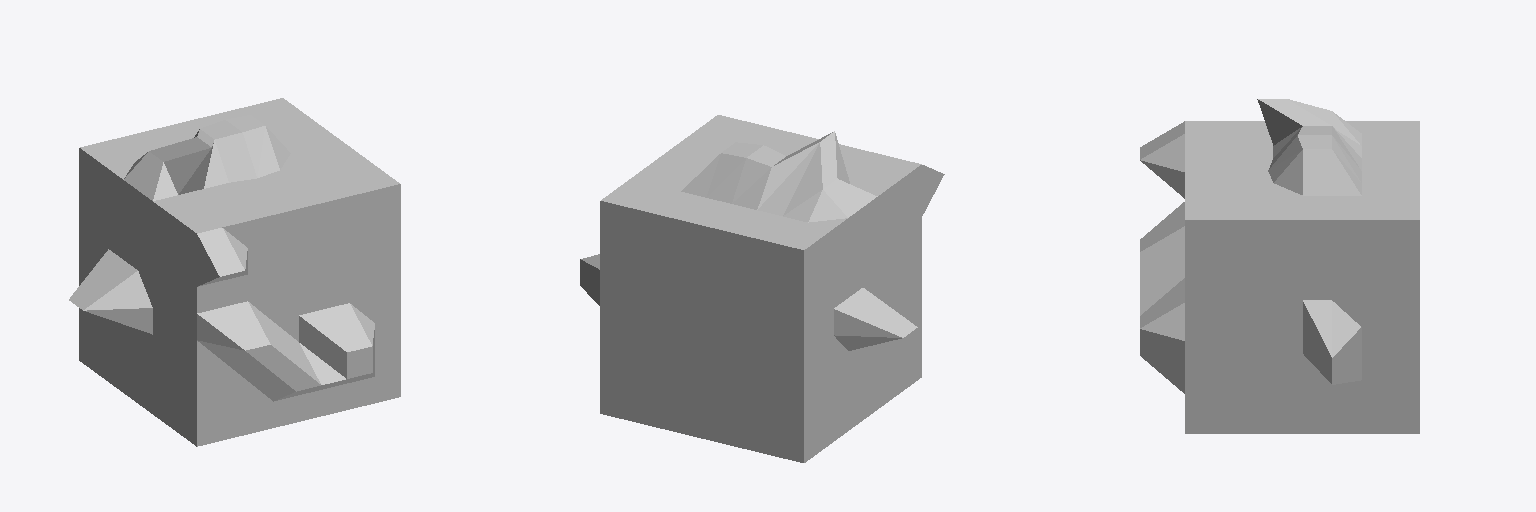
File: badbox.obj
The picture shows the model from 3 angles: view 1: azimuth 30°, elevation 25°; view 2: azimuth 150°, elevation 25°; view 3: azimuth 270°, elevation 25°; orthographic projection.
Visible parts, largest first — view 1: Cube; view 2: Cube; view 3: Cube.
Part boxes in pixels (x1,y1,x2,y2): Cube: (69,98,400,446); Cube: (580,115,944,462); Cube: (1140,99,1419,433).
Size of the model in its own units: 3.17 by 2.44 by 2.39.